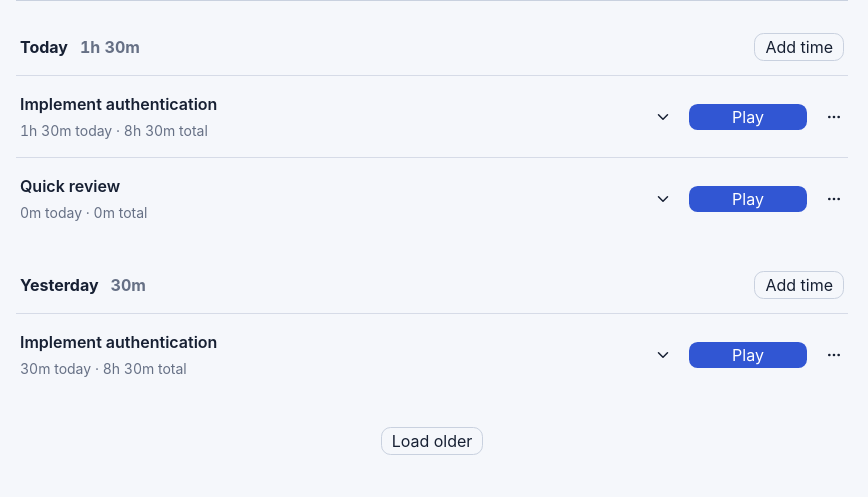
Test case: DailyHistory › communicates deletion-summary failures without opening confirmation or mutating
Press ArrowDown in the 1st button named "Task actions for Implement authentication", box [820,102,848,130]
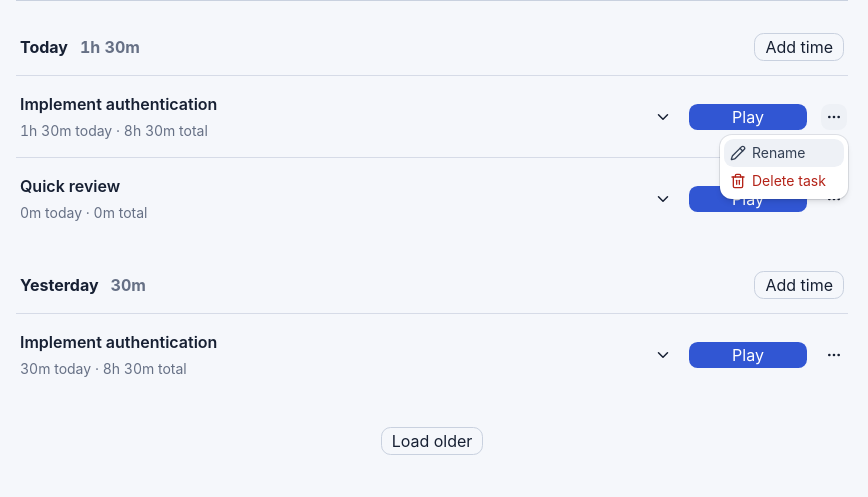
Click the menu item "Delete task": [778, 180] box [730,172,826,189]
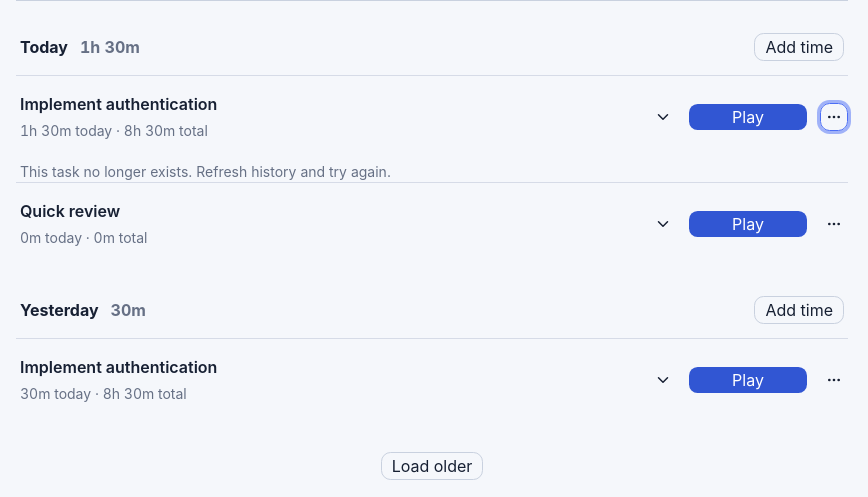
Expected: the message shows "This task no longer exists", [20,163,391,180]
